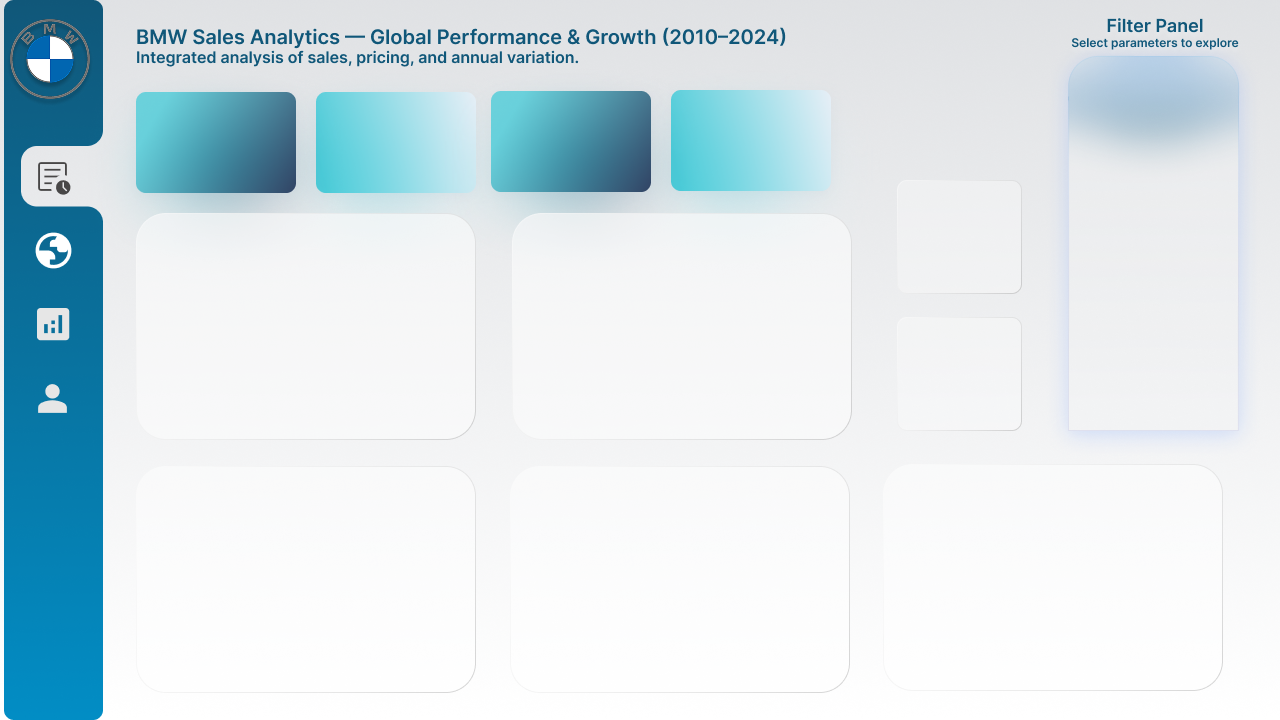

What the dashboard file says about the page in this screenshot:
{"tool":"powerbi","page":{"name":"Página 1","canvas":[1280,720],"ordinal":0},"visuals":[{"type":"card","fields":{"Values":["bmw_sales_final.Total Sales Volume"]},"box":[122.2,58.7,179.4,155.6],"z":0},{"type":"card","fields":{"Values":["bmw_sales_final.Weighted Avg Price"]},"box":[301,70,190,134],"z":1000},{"type":"card","title":"Sales YoY %","fields":{"Values":["bmw_sales_final.Sales YoY %_display"]},"box":[480,69,180,130],"z":2000},{"type":"card","fields":{"Values":["bmw_sales_final.Price YoY %_display"]},"box":[653,64,192,139],"z":3000},{"type":"lineChart","title":"BMW Global Sales Over Time","fields":{"Category":["bmw_sales_final.Year"],"Y":["bmw_sales_final.Total Sales Volume"]},"box":[141.3,214.3,338.1,215.9],"z":4000},{"type":"lineChart","title":"Average Price per Year (USD)","fields":{"Category":["bmw_sales_final.Year"],"Y":["bmw_sales_final.Weighted Avg Price"]},"box":[519,214.3,336.5,223.8],"z":5000},{"type":"slicer","fields":{"Values":["bmw_sales_final.Year"]},"box":[1068.7,63.6,168.7,81.8],"z":6000},{"type":"slicer","fields":{"Values":["bmw_sales_final.Fuel_Type"]},"box":[1068.7,132.3,168.7,82.8],"z":7000},{"type":"slicer","fields":{"Values":["bmw_sales_final.Region"]},"box":[1068.7,197,168.7,71.7],"z":8000},{"type":"slicer","fields":{"Values":["bmw_sales_final.Mileage_Range"]},"box":[1068.7,268.7,168.7,74.7],"z":9000},{"type":"slicer","fields":{"Values":["bmw_sales_final.Transmission"]},"box":[1068.7,343.4,168.7,86.9],"z":10000},{"type":"kpi","title":"Sales Growth YoY (%)","fields":{"TrendLine":["bmw_sales_final.Year"],"Indicator":["bmw_sales_final.Sales YoY %"],"Goal":["bmw_sales_final.Target"]},"box":[895.7,179.8,127.1,115.4],"z":11000},{"type":"kpi","title":"Price Growth YoY (%)","fields":{"TrendLine":["bmw_sales_final.Year"],"Indicator":["bmw_sales_final.Price YoY %"],"Goal":["bmw_sales_final.Target"]},"box":[900,321.8,122.9,112.2],"z":12000},{"type":"columnChart","title":"Sales by Region Over Time","fields":{"Category":["bmw_sales_final.Year"],"Y":["bmw_sales_final.Total Sales Volume"],"Series":["bmw_sales_final.Region"]},"box":[141.3,466.7,338.1,234.9],"z":13000},{"type":"areaChart","title":"Weighted Average Price Over Time","fields":{"Category":["bmw_sales_final.Year"],"Y":["bmw_sales_final.Weighted Avg Price"]},"box":[509.1,471.4,346.8,210.4],"z":14000},{"type":"lineChart","title":"Year-over-Year Growth: Sales vs Price","fields":{"Category":["bmw_sales_final.Year"],"Y":["bmw_sales_final.Sales YoY %","bmw_sales_final.Price YoY %"]},"box":[900,466.7,320.6,215.9],"z":15000},{"type":"actionButton","box":[17.3,215.4,72.3,56.4],"z":16000},{"type":"actionButton","box":[23.1,294.9,60.7,49.2],"z":17000},{"type":"actionButton","box":[23.1,360,60.7,66.5],"z":18000}]}

Visuals, with their boxes on the page's 1280x720 design canvas (x1, y1, x2, y2). These are canvas units, not pixel positions in the 1280x720 screenshot, which may show the page scaled, cropped or inside an application window:
card - bmw_sales_final.Total Sales Volume: 122 59 302 214
card - bmw_sales_final.Weighted Avg Price: 301 70 491 204
"Sales YoY %" card: 480 69 660 199
card - bmw_sales_final.Price YoY %_display: 653 64 845 203
"BMW Global Sales Over Time" lineChart: 141 214 479 430
"Average Price per Year (USD)" lineChart: 519 214 856 438
slicer - bmw_sales_final.Year: 1069 64 1237 145
slicer - bmw_sales_final.Fuel_Type: 1069 132 1237 215
slicer - bmw_sales_final.Region: 1069 197 1237 269
slicer - bmw_sales_final.Mileage_Range: 1069 269 1237 343
slicer - bmw_sales_final.Transmission: 1069 343 1237 430
"Sales Growth YoY (%)" kpi: 896 180 1023 295
"Price Growth YoY (%)" kpi: 900 322 1023 434
"Sales by Region Over Time" columnChart: 141 467 479 702
"Weighted Average Price Over Time" areaChart: 509 471 856 682
"Year-over-Year Growth: Sales vs Price" lineChart: 900 467 1221 683
actionButton: 17 215 90 272
actionButton: 23 295 84 344
actionButton: 23 360 84 426
